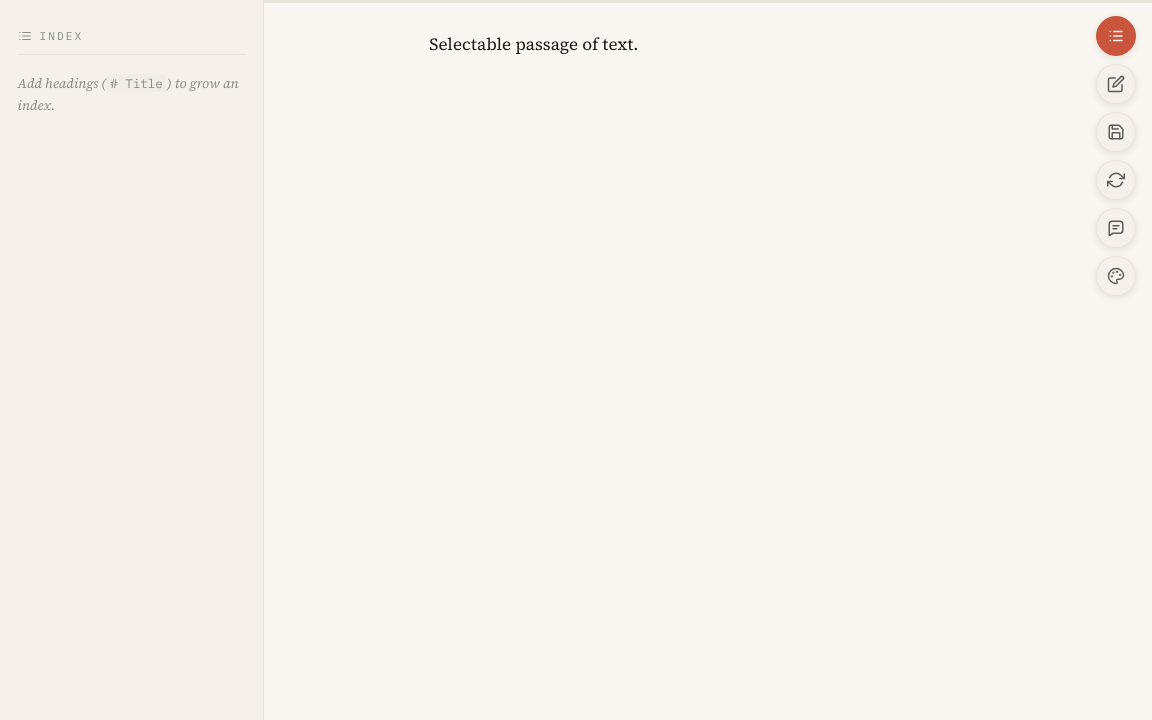
highlight-to-comment mode › double-clicking the comments button arms the mode; selection then comments
Double-click the button named "Show comments": [1116, 228] box [1096,208,1136,248]
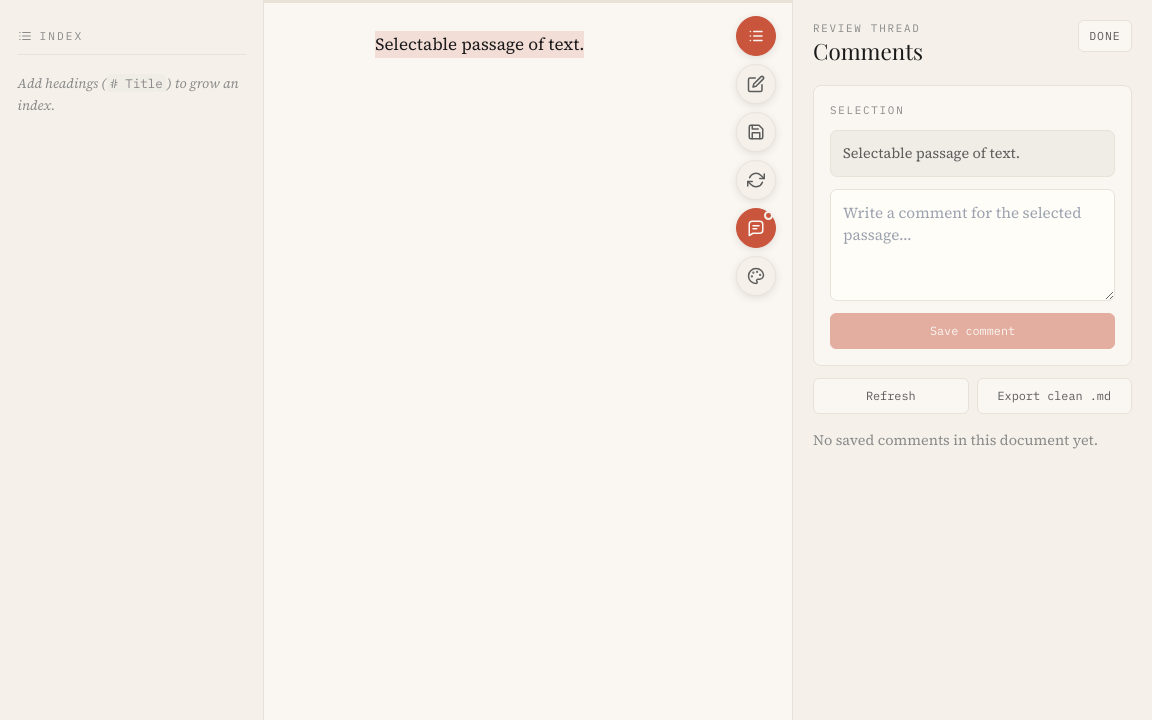
Expected: the 1st text "Selectable passage of text." is shown, [375,32,584,56]
Expected: the element "Comments" is shown, [792,0,1151,719]
Expected: the element named "add comment" shows "Selectable passage of text.", [843,143,1020,163]
